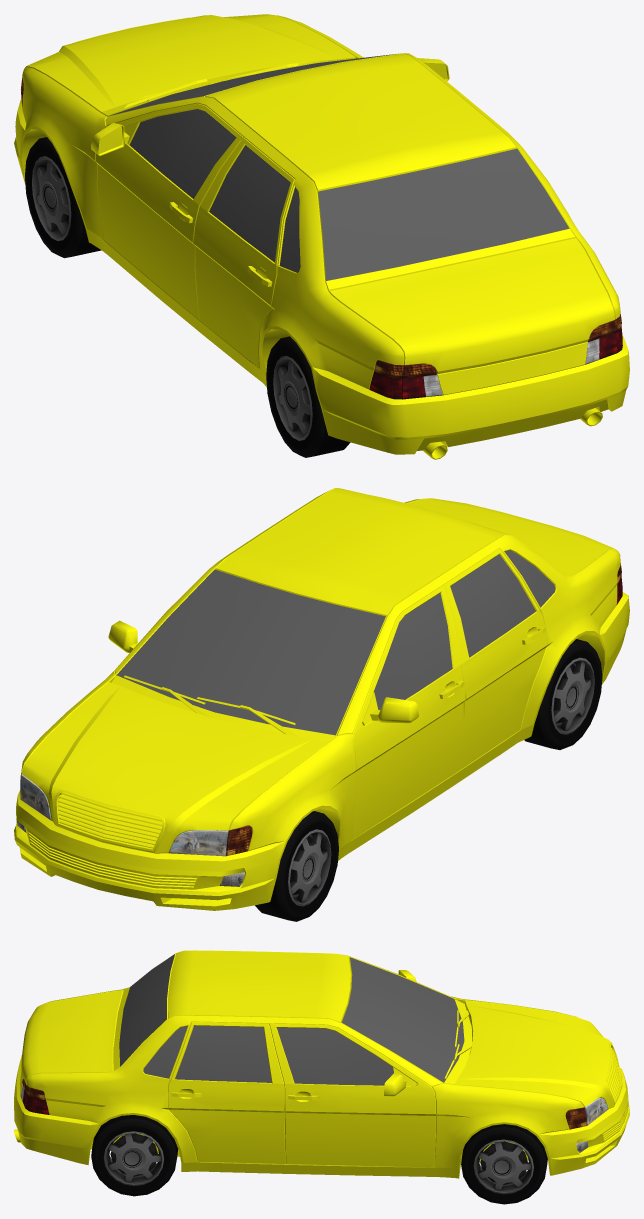
Rendered from pack_sedan.glb.
3 views of the same model, one above another, from view 1: azimuth 30°, elevation 25°; view 2: azimuth 150°, elevation 25°; view 3: azimuth 270°, elevation 25° (orthographic). The views are drawn at different scales.
Visible parts, largest first — view 1: Sedan Body, Wheel_A001, Wheel_A; view 2: Sedan Body, Wheel_A, Wheel_A001; view 3: Sedan Body, Wheel_A003, Wheel_A002.
Boxes of the visible parts, left/top/right/bottom form: Sedan Body: left=14, top=14, right=629, bottom=459; Wheel_A001: left=266, top=336, right=350, bottom=457; Wheel_A: left=25, top=137, right=101, bottom=258; Sedan Body: left=14, top=488, right=629, bottom=910; Wheel_A: left=255, top=811, right=338, bottom=921; Wheel_A001: left=524, top=639, right=602, bottom=749; Sedan Body: left=14, top=950, right=629, bottom=1178; Wheel_A003: left=91, top=1115, right=178, bottom=1196; Wheel_A002: left=461, top=1124, right=547, bottom=1204.
Bounding box in the file's own units: 2.19 × 1.51 × 4.91.
Materials: 4 (2 with a texture image).
